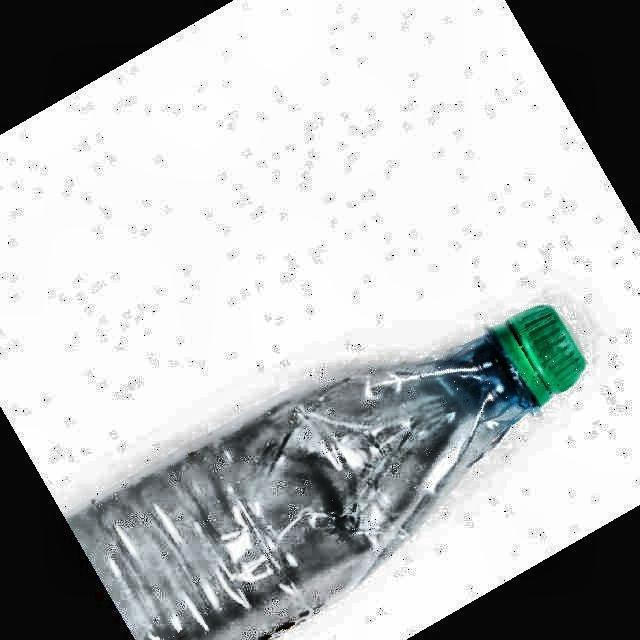plastic: (69, 305, 584, 640)
